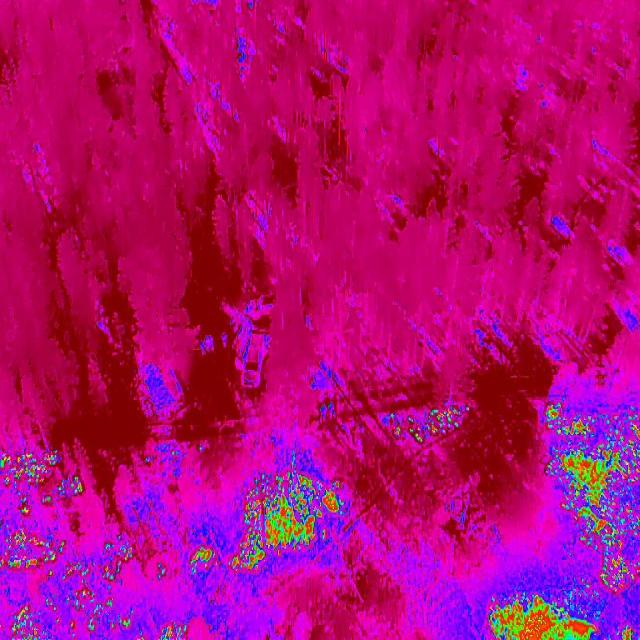fire: (543, 402, 640, 588), (0, 444, 84, 640), (228, 466, 353, 579), (476, 582, 604, 640), (85, 535, 135, 640), (386, 403, 474, 452), (182, 541, 215, 585), (157, 616, 194, 640)
